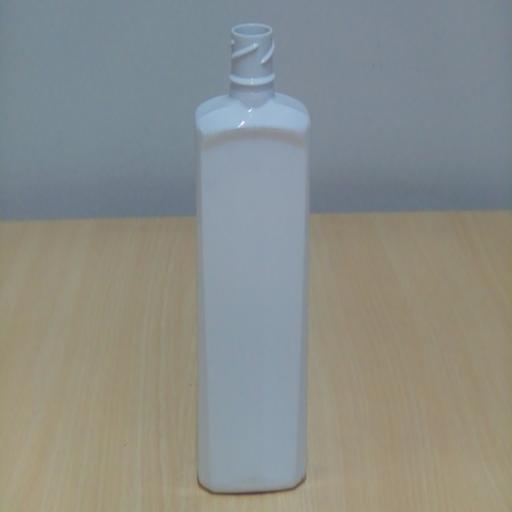Good: (186, 6, 323, 507)
